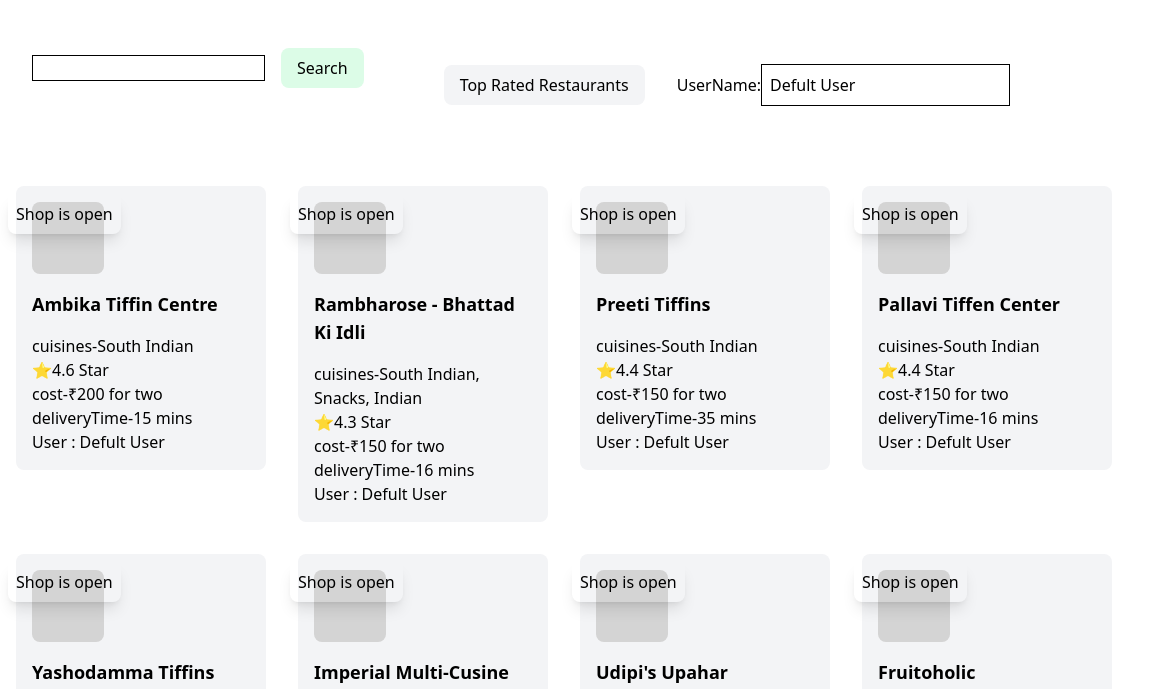
Test: Should filter top rated res
This screenshot has width=1152, height=689.
What coordinates should you click on to do the following:
click the button "Top Rated Restaurants"
I would click on:
 (544, 85)
Its box is [444,65,645,105].
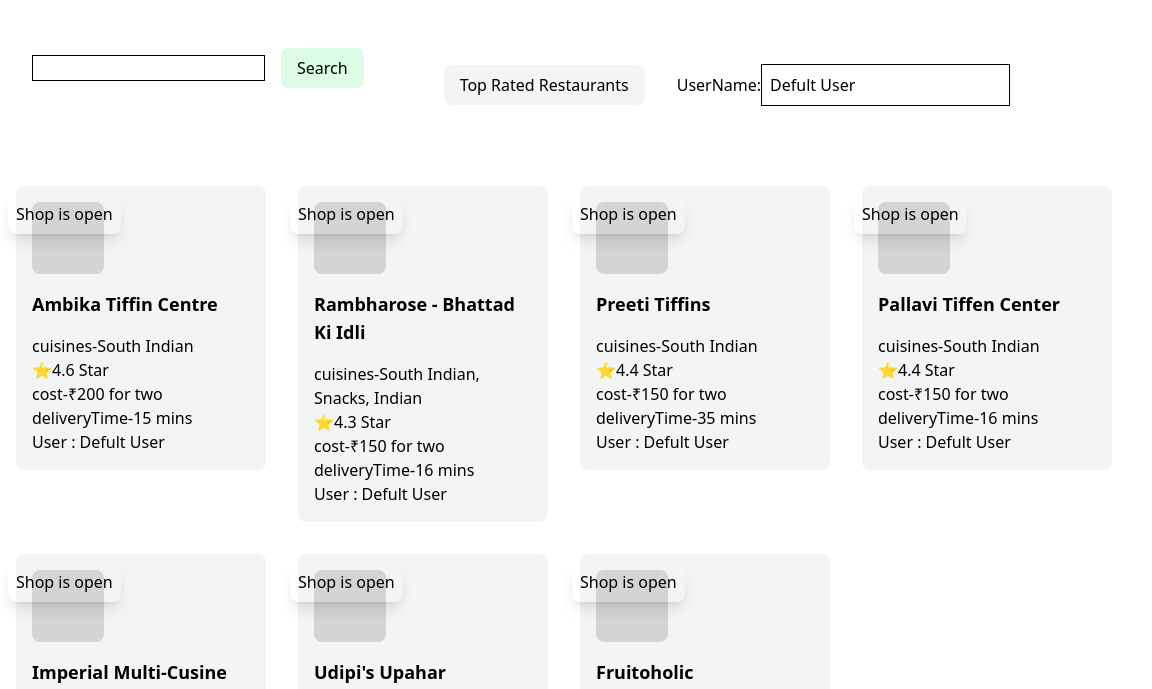
expect the number of elements with test id "rescard" is 7: met
